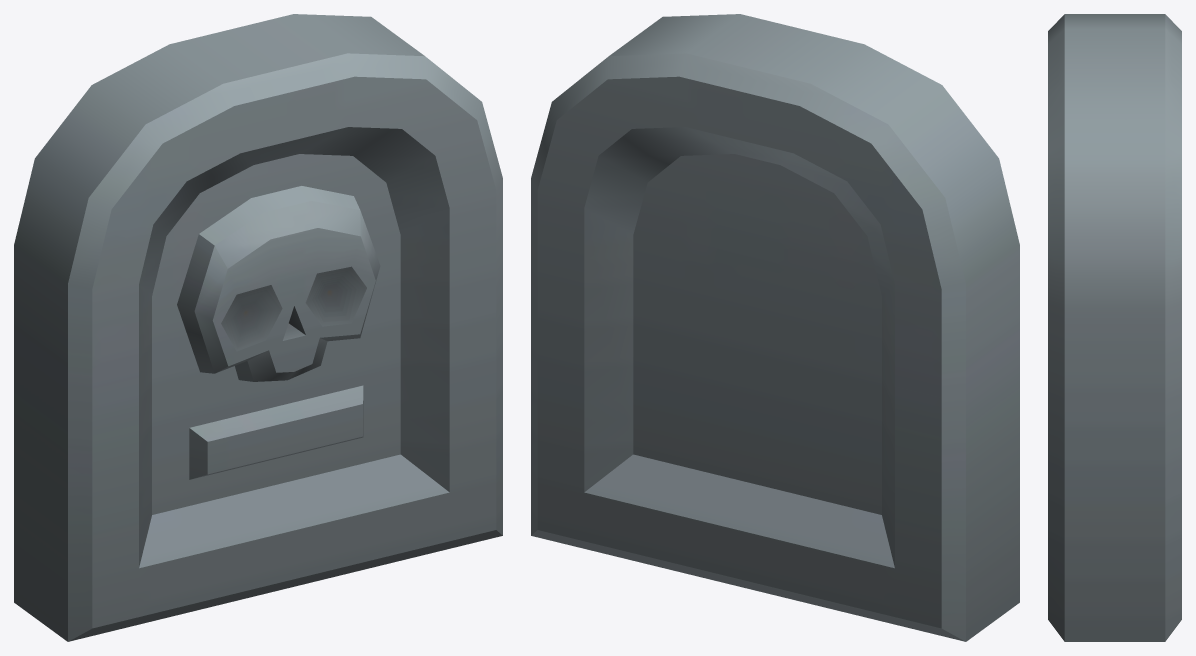
Rendered from gravestone.glb.
The picture shows the model from 3 angles, left to right: view 1: azimuth 30°, elevation 25°; view 2: azimuth 150°, elevation 25°; view 3: azimuth 270°, elevation 25°; orthographic projection. The views are drawn at different scales.
Parts seen in each view (by area): view 1: gravestone; view 2: gravestone; view 3: gravestone.
Part boxes in pixels (x1,y1,x2,y2): gravestone: (14, 14, 502, 641); gravestone: (531, 14, 1019, 641); gravestone: (1048, 14, 1181, 641).
Size of the model in its own units: 1.4 by 1.6 by 0.4.
Materials: 1 (1 with a texture image).
